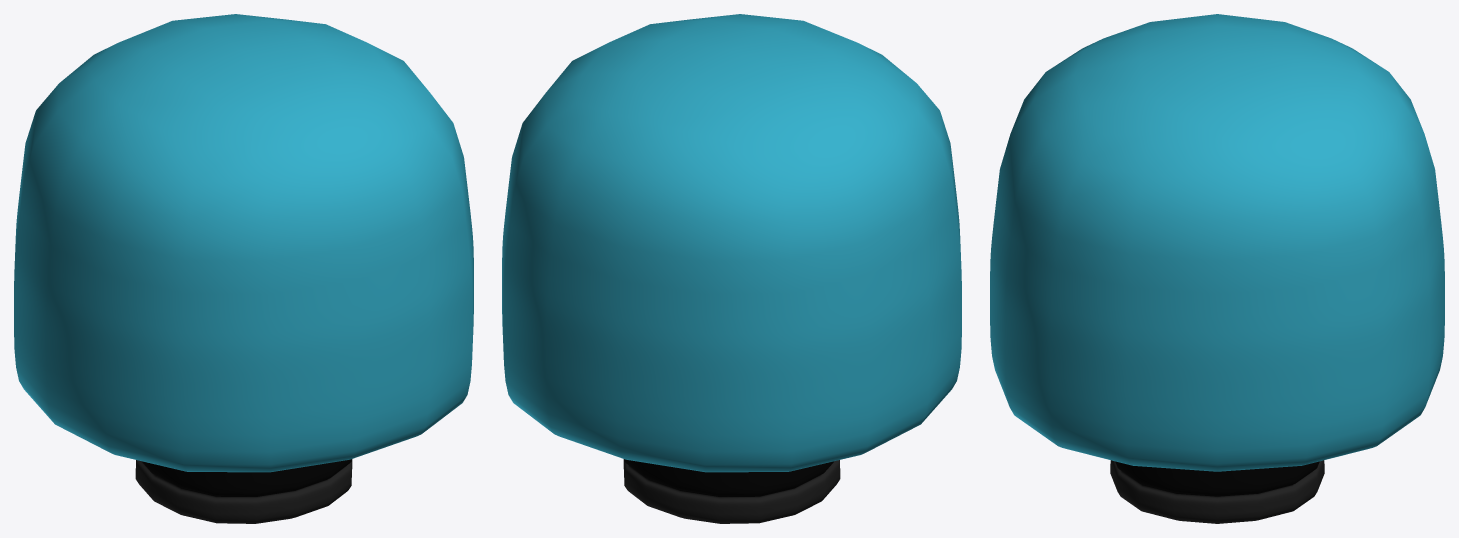
3 views of the same model, side by side, from view 1: azimuth 30°, elevation 25°; view 2: azimuth 150°, elevation 25°; view 3: azimuth 270°, elevation 25° (orthographic).
Visible parts, largest first — view 1: Deckel1; view 2: Deckel1; view 3: Deckel1.
Boxes of the visible parts, x1,y1,x2,y2 form: Deckel1: (14,14,473,523); Deckel1: (502,14,961,523); Deckel1: (990,14,1444,523).
Bounding box in the file's own units: 5.55 × 5.91 × 5.55.
